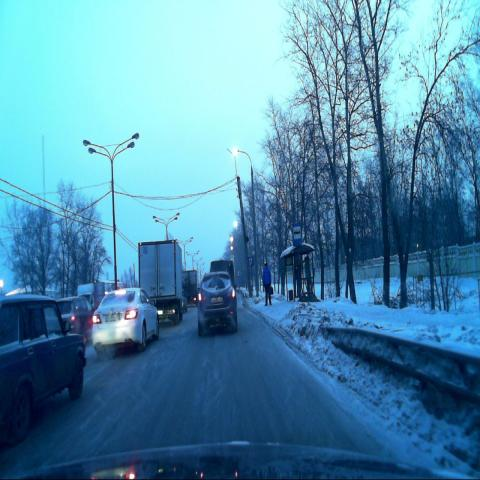5_15_3: (248, 256, 253, 269)
5_16: (292, 223, 302, 247)
